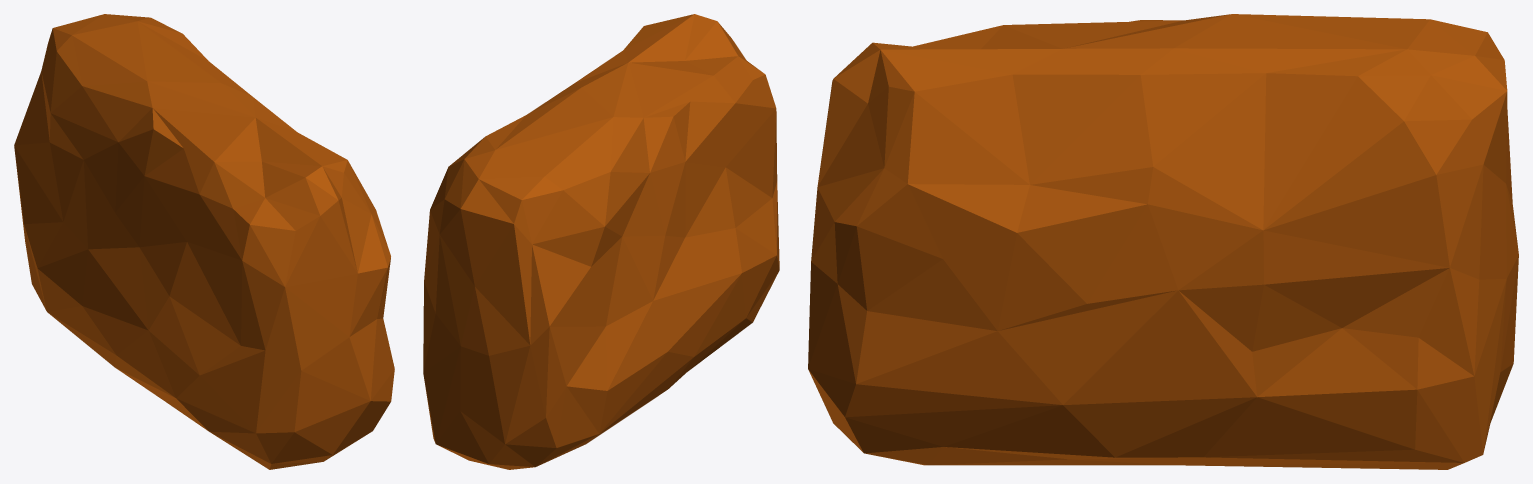
The model's file is Boulder_2.fbx.
3 views of the same model, side by side, from view 1: azimuth 30°, elevation 25°; view 2: azimuth 150°, elevation 25°; view 3: azimuth 270°, elevation 25° (orthographic). The views are drawn at different scales.
Parts seen in each view (by area): view 1: Boulder_2; view 2: Boulder_2; view 3: Boulder_2.
Boxes of the visible parts, box(x1,y1,x2,y2) form: Boulder_2: box(14, 14, 394, 469); Boulder_2: box(423, 14, 779, 469); Boulder_2: box(808, 14, 1518, 469).
Size of the model in its own units: 269 by 403 by 619.
